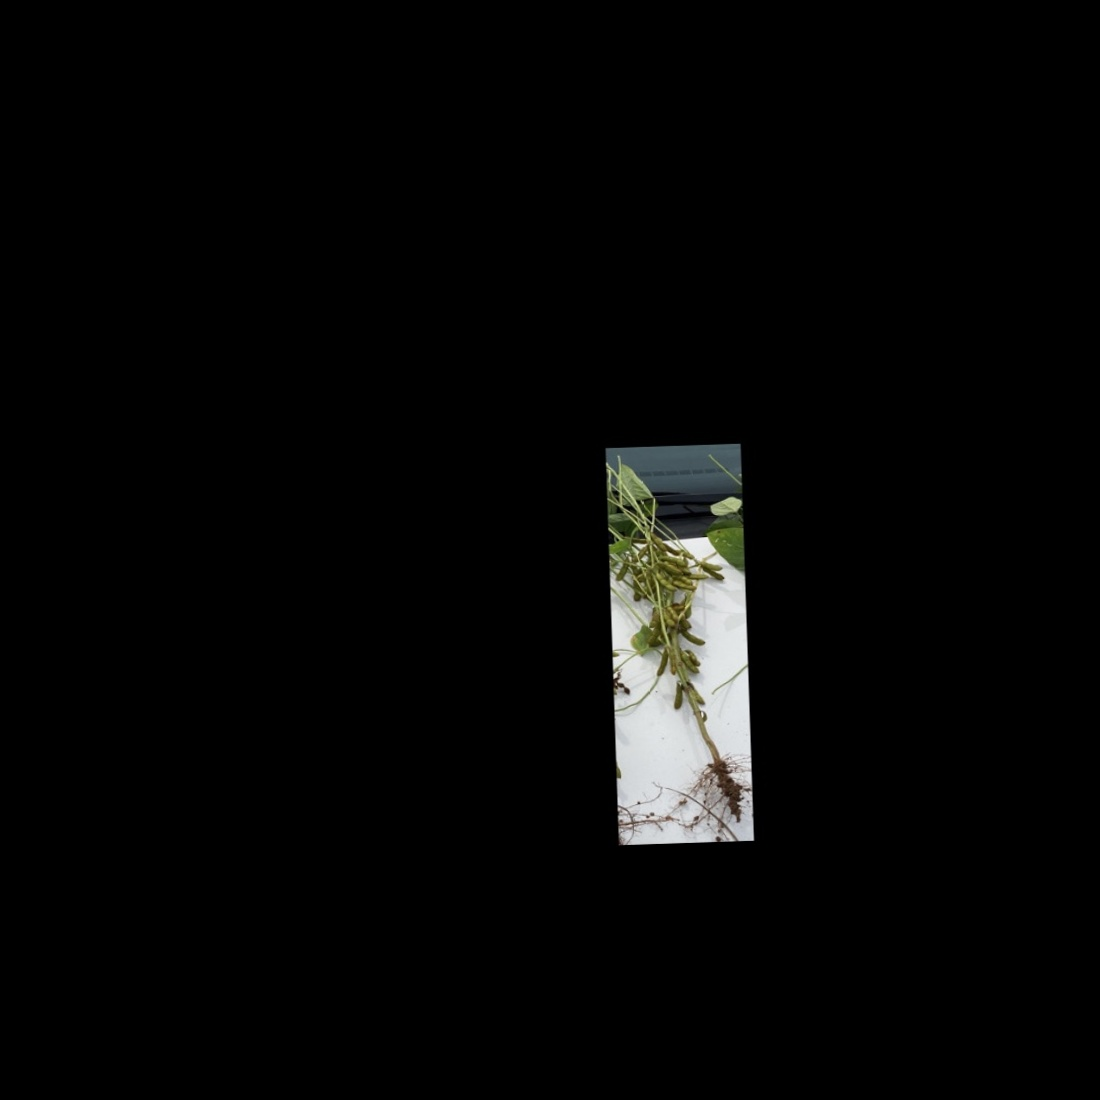pod: (677, 646, 700, 677), (651, 567, 677, 594), (677, 627, 710, 648), (697, 564, 727, 583), (648, 528, 668, 556), (613, 555, 634, 583), (653, 648, 669, 680), (644, 622, 663, 647), (671, 680, 684, 713), (666, 647, 679, 676), (697, 560, 724, 573)
soy: (607, 450, 749, 823)
